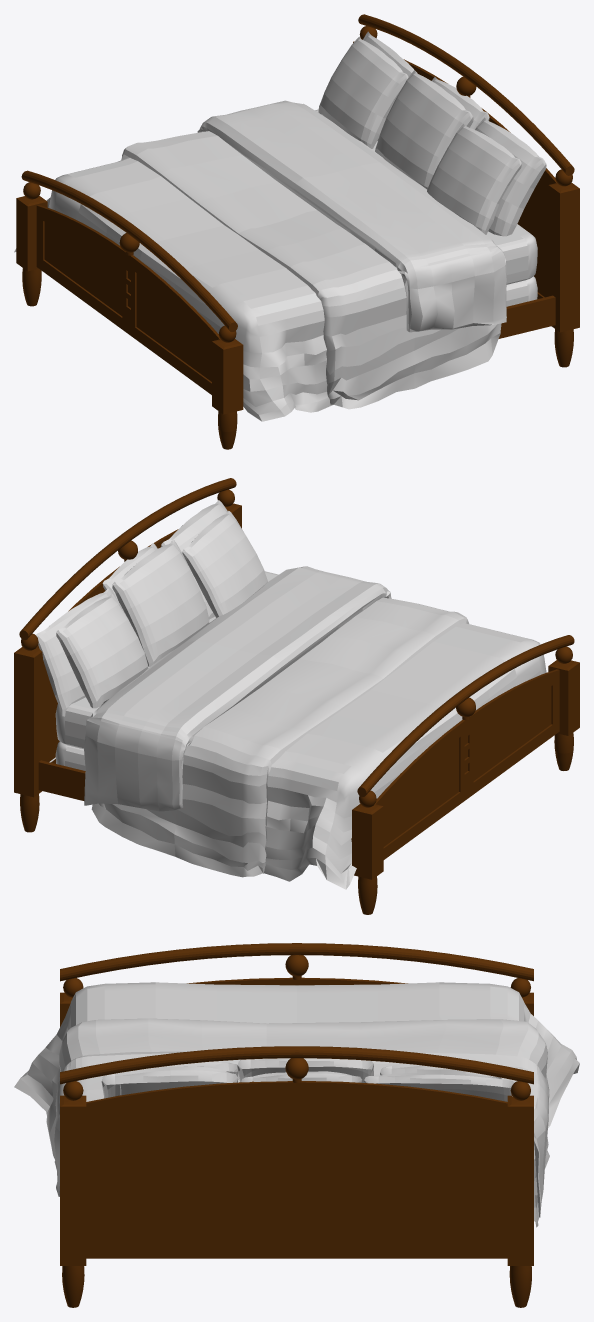
File: obj_bed_1687c9.glb
The picture shows the model from 3 angles, top to bottom: view 1: azimuth 30°, elevation 25°; view 2: azimuth 150°, elevation 25°; view 3: azimuth 270°, elevation 25°; orthographic projection. The views are drawn at different scales.
Visible parts, largest first — view 1: obj_bed_1687c9; view 2: obj_bed_1687c9; view 3: obj_bed_1687c9.
Part boxes in pixels (left/top/right/bottom): obj_bed_1687c9: left=14, top=14, right=579, bottom=449; obj_bed_1687c9: left=14, top=478, right=579, bottom=914; obj_bed_1687c9: left=14, top=943, right=579, bottom=1307.
Bounding box in the file's own units: 1.33 × 0.8069 × 1.6.
